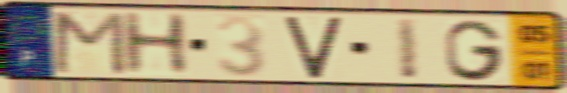3: (214, 13, 269, 79)
G: (442, 17, 507, 83)
H: (116, 10, 193, 77)
I: (393, 16, 422, 82)
M: (50, 10, 129, 77)
V: (282, 14, 346, 81)
